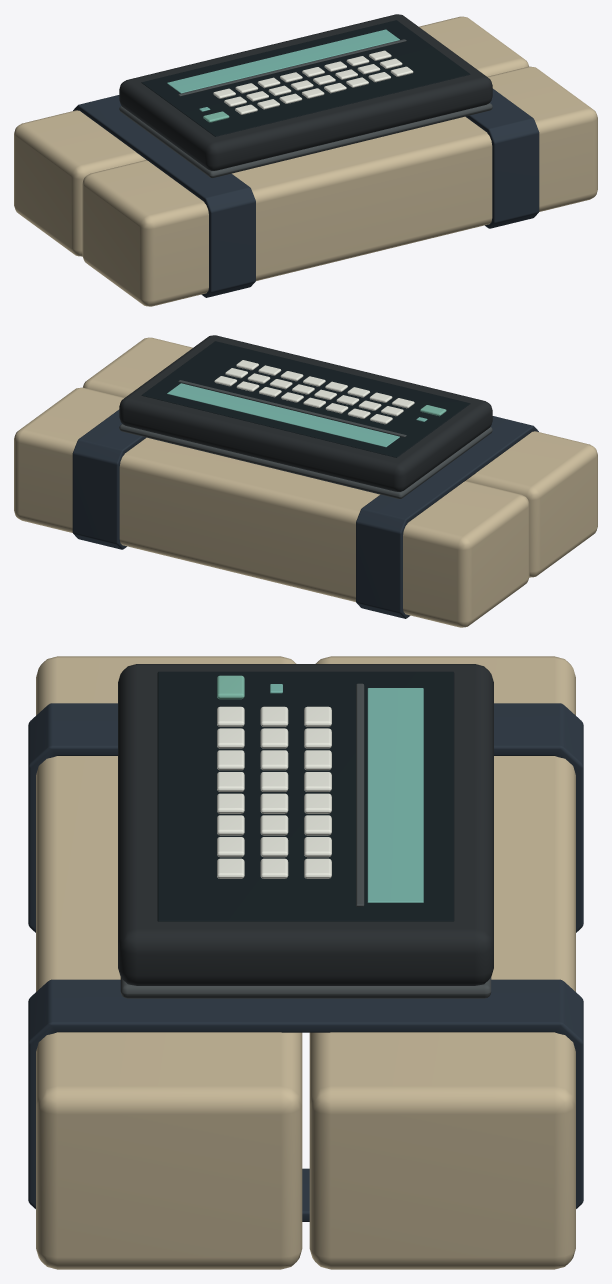
Rendered from PlasticExplosiveV2.fbx.
The picture shows the model from 3 angles, top to bottom: view 1: azimuth 30°, elevation 25°; view 2: azimuth 150°, elevation 25°; view 3: azimuth 270°, elevation 25°; orthographic projection. The views are drawn at different scales.
Parts seen in each view (by area): view 1: Front beige rectangular block, Flat horizontal console housing, Rear beige rectangular block, Flat control panel, Left continuous dark band, Right continuous dark band, Flush horizontal mint display, Console lower shell seam, Display lower frame; view 2: Rear beige rectangular block, Flat horizontal console housing, Front beige rectangular block, Flat control panel, Left continuous dark band, Right continuous dark band, Flush horizontal mint display, Console lower shell seam, Display lower frame; view 3: Front beige rectangular block, Rear beige rectangular block, Flat control panel, Flat horizontal console housing, Right continuous dark band, Flush horizontal mint display, Left continuous dark band, Console lower shell seam, Display lower frame.
Part boxes in pixels (x1,y1,x2,y2): Front beige rectangular block: (82,66,597,306); Flat horizontal console housing: (119,14,492,170); Rear beige rectangular block: (14,16,528,256); Flat control panel: (141,20,470,136); Left continuous dark band: (73,95,255,297); Right continuous dark band: (465,88,539,228); Flush horizontal mint display: (167,29,399,93); Console lower shell seam: (119,103,492,178); Display lower frame: (178,39,406,96); Rear beige rectangular block: (14,387,529,627); Flat horizontal console housing: (119,335,492,491); Front beige rectangular block: (83,337,597,577); Flat control panel: (141,341,470,457); Left continuous dark band: (356,416,538,618); Right continuous dark band: (72,409,146,549); Flush horizontal mint display: (167,383,399,447); Console lower shell seam: (119,424,492,499); Display lower frame: (178,380,406,437); Front beige rectangular block: (36,656,302,1269); Rear beige rectangular block: (309,656,575,1269); Flat control panel: (157,671,454,921); Flat horizontal console housing: (118,664,493,985); Right continuous dark band: (28,979,583,1221); Flush horizontal mint display: (367,688,423,902); Left continuous dark band: (28,703,583,932); Console lower shell seam: (120,977,491,998); Display lower frame: (356,683,364,906).
Bounding box in the file's own units: 300 × 85.4 × 158.
